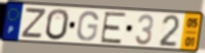2: (158, 14, 181, 48)
3: (135, 13, 155, 46)
E: (99, 11, 128, 45)
G: (76, 10, 101, 43)
O: (45, 8, 71, 42)
Z: (19, 7, 49, 40)
